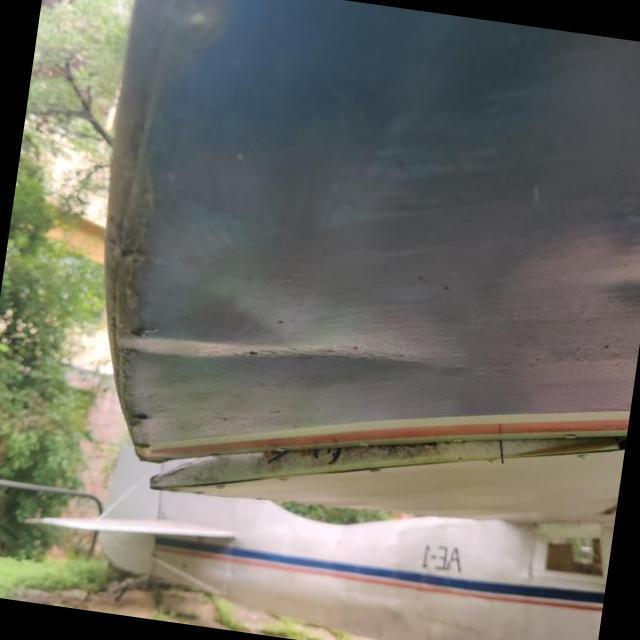dent: (103, 321, 460, 385)
